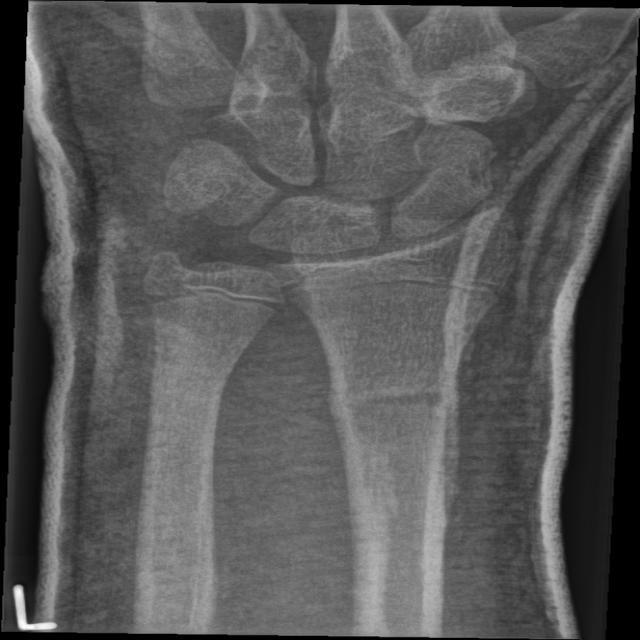radius fracture: (309, 330, 482, 526)
